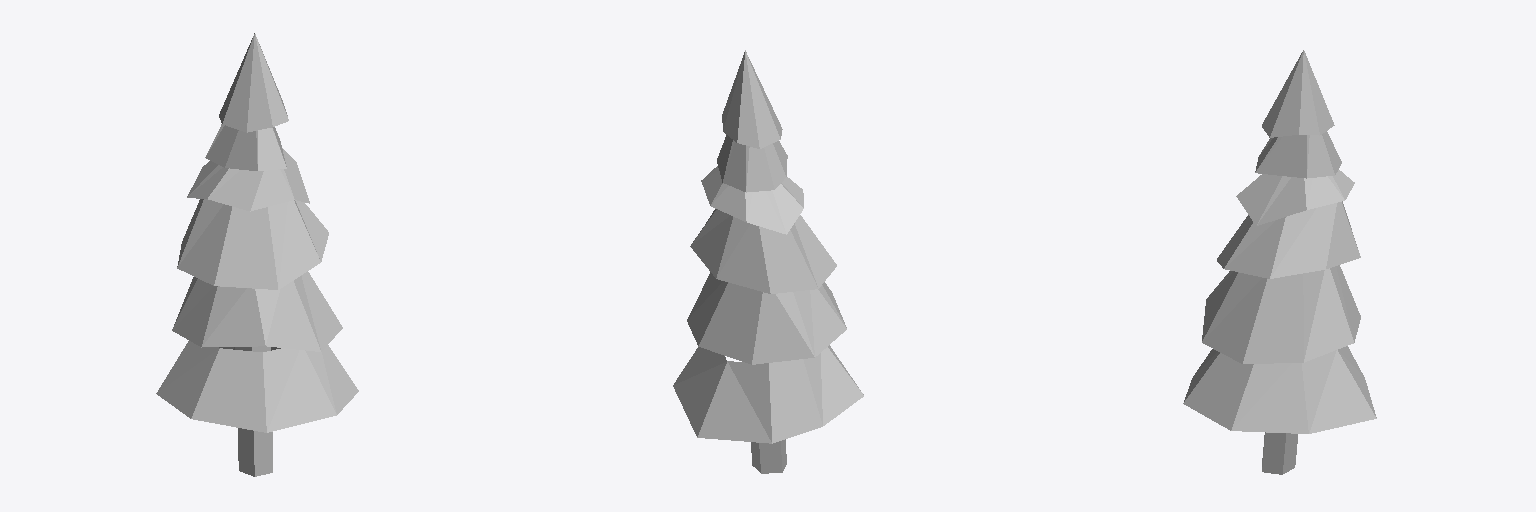
The model's file is L2PINE_03.obj.
The picture shows the model from 3 angles: view 1: azimuth 30°, elevation 25°; view 2: azimuth 150°, elevation 25°; view 3: azimuth 270°, elevation 25°; orthographic projection.
Parts seen in each view (by area): view 1: Cylinder.001, Cylinder; view 2: Cylinder.001, Cylinder; view 3: Cylinder.001, Cylinder.
Boxes of the visible parts, x1=… form: Cylinder.001: x1=156, y1=33, x2=358, y2=432; Cylinder: x1=235, y1=346, x2=272, y2=476; Cylinder.001: x1=673, y1=50, x2=863, y2=443; Cylinder: x1=751, y1=439, x2=786, y2=473; Cylinder.001: x1=1183, y1=50, x2=1376, y2=433; Cylinder: x1=1262, y1=432, x2=1297, y2=474.
Size of the model in its own units: 2.51 by 6.29 by 2.6.